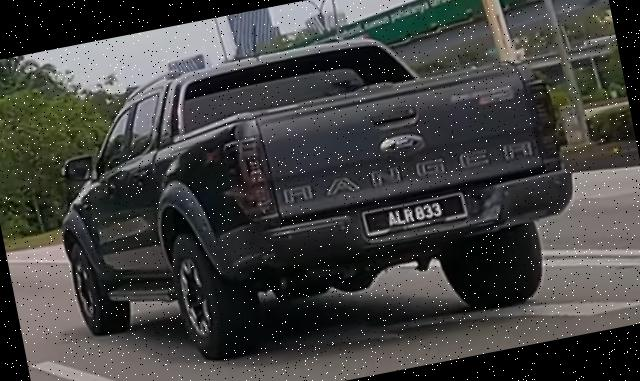License_Plate: (360, 189, 471, 240)
car: (34, 1, 595, 381)
